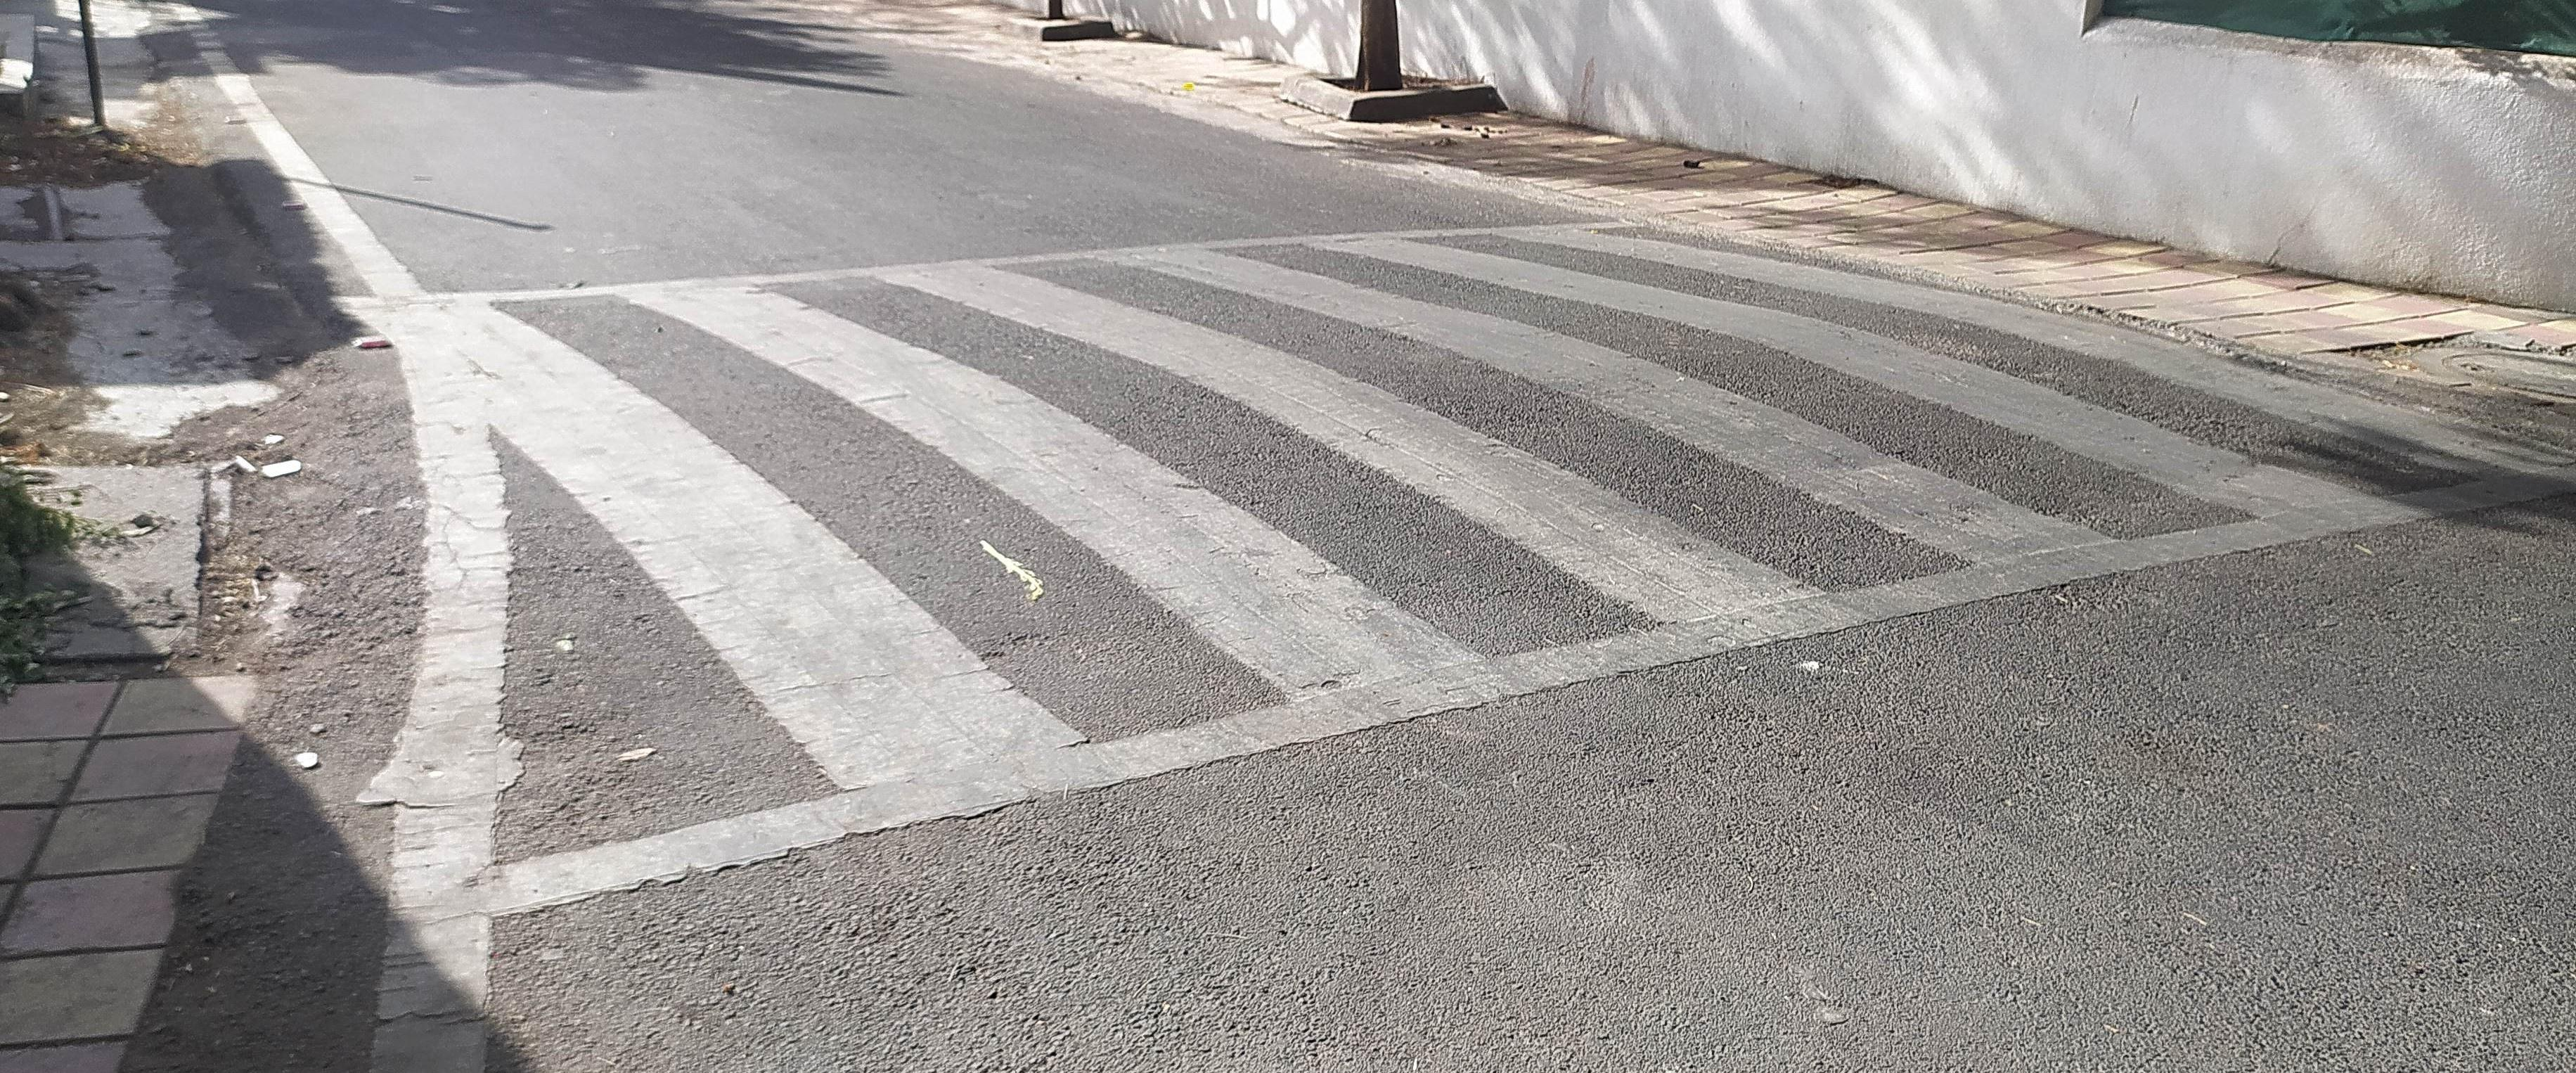speed-bump: (271, 215, 2572, 912)
